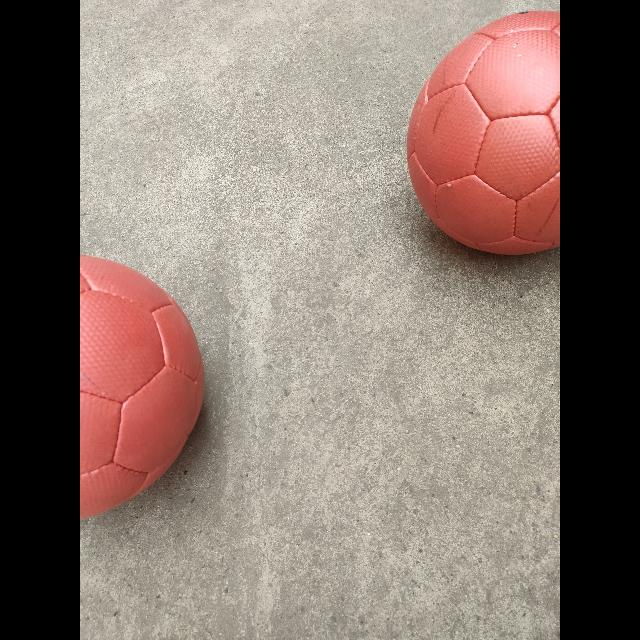R: (406, 10, 560, 256), (80, 255, 204, 519)
